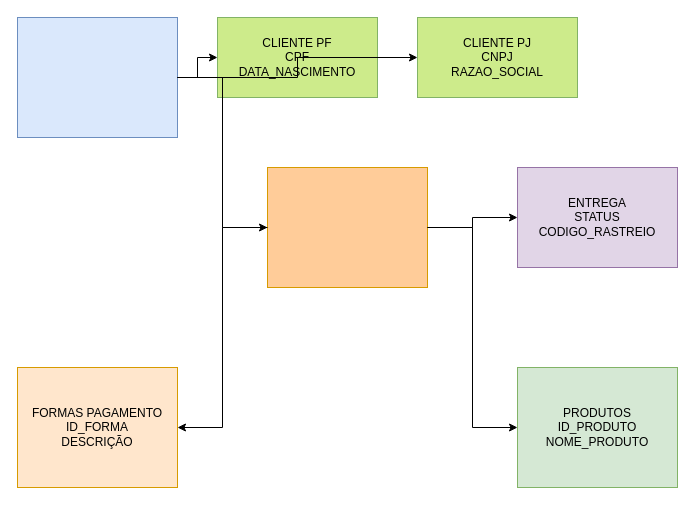
The diagram is 695 pixels wide and 505 high, and some of its shapes have lost their labels. The shapes that lost their labels are listed below. From the top down, each one's centre as x and y in pixels, then its label:
the point at 97,77: CLIENTES ID_CLIENTE NOME
the point at 347,227: PEDIDOS ID_PEDIDO ID_CLIENTE VALOR
